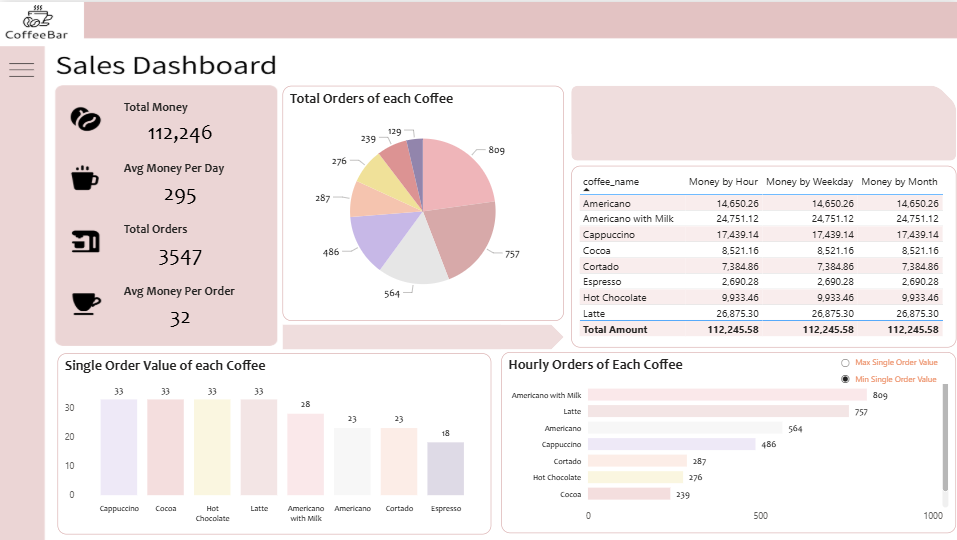

This screenshot's page, from the dashboard's own definition file:
{"tool":"powerbi","page":{"name":"Home","canvas":[1280,720],"ordinal":0},"visuals":[{"type":"card","title":"Total Orders","fields":{"Values":["Additional_Measure.Total Orders"]},"box":[160.8,293.9,161.1,64.7],"z":0},{"type":"card","title":"Avg Money Per Order","fields":{"Values":["Additional_Measure.Average Money per Order"]},"box":[160.8,375.5,161.1,65.3],"z":1000},{"type":"card","title":"Total Money","fields":{"Values":["Additional_Measure.Total Money"]},"box":[160.8,129.7,161.1,65.3],"z":2000},{"type":"card","title":"Avg Money Per Day","fields":{"Values":["Additional_Measure.Average Money per Day"]},"box":[160.8,211.8,161.1,65.3],"z":3000},{"type":"pieChart","title":"Total Orders of each Coffee","fields":{"Category":["Coffee_sales.coffee_name"],"Y":["Additional_Measure.Total Orders"]},"box":[376.7,111.7,375,313.3],"z":4000},{"type":"barChart","title":"Hourly Orders of Each Coffee","fields":{"Y":["Additional_Measure.Orders by Hour"],"Category":["Coffee_sales.coffee_name"]},"box":[668.3,466.7,606.7,241.7],"z":5000},{"type":"columnChart","title":"Single Order Value of each Coffee","fields":{"Y":["Additional_Measure.Min Single Order Value"],"Category":["Coffee_sales.coffee_name"]},"box":[76.7,468.3,578.3,241.7],"z":6000},{"type":"slicer","fields":{"Values":["minmax singleorderval.minmax singleorderval"]},"box":[1108.3,465,161.7,53.3],"z":7000},{"type":"shape","box":[762.2,112.2,513.3,100],"z":8000},{"type":"tableEx","fields":{"Values":["Coffee_sales.coffee_name","Additional_Measure.Money by Hour","Additional_Measure.Money by Weekday","Additional_Measure.Money by Month"]},"box":[762.2,218.9,513.3,242.2],"z":9000},{"type":"shape","box":[376.7,430,375,33.3],"z":10000}]}

Visuals, with their boxes on the page's 1280x720 design canvas (x1, y1, x2, y2). These are canvas units, not pixel positions in the 957x540 screenshot, which may show the page scaled, cropped or inside an application window:
"Total Orders" card: BBox(161, 294, 322, 359)
"Avg Money Per Order" card: BBox(161, 376, 322, 441)
"Total Money" card: BBox(161, 130, 322, 195)
"Avg Money Per Day" card: BBox(161, 212, 322, 277)
"Total Orders of each Coffee" pieChart: BBox(377, 112, 752, 425)
"Hourly Orders of Each Coffee" barChart: BBox(668, 467, 1275, 708)
"Single Order Value of each Coffee" columnChart: BBox(77, 468, 655, 710)
slicer - minmax singleorderval.minmax singleorderval: BBox(1108, 465, 1270, 518)
shape: BBox(762, 112, 1276, 212)
tableEx - Coffee_sales.coffee_name x Additional_Measure.Money by Hour: BBox(762, 219, 1276, 461)
shape: BBox(377, 430, 752, 463)
